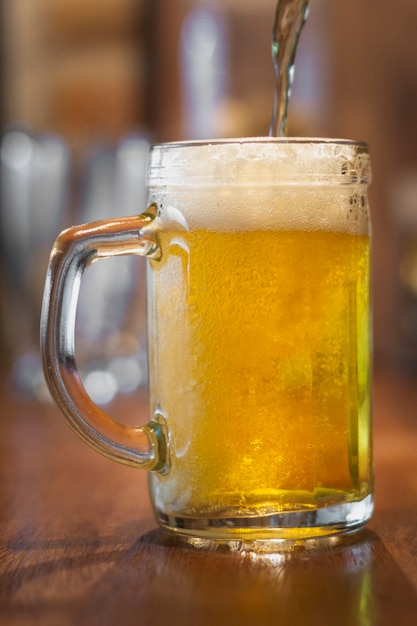alcohol: (46, 138, 382, 555)
